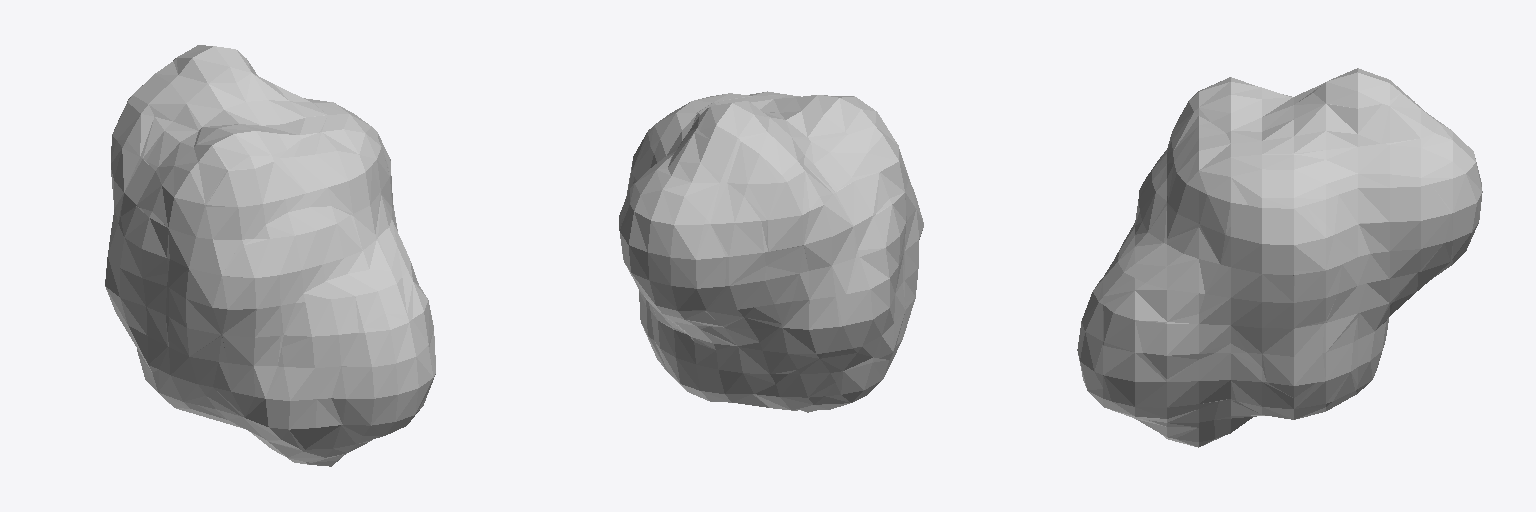
The model's file is 3i07_cms.obj.
The picture shows the model from 3 angles: view 1: azimuth 30°, elevation 25°; view 2: azimuth 150°, elevation 25°; view 3: azimuth 270°, elevation 25°; orthographic projection.
Size of the model in its own units: 48.59 by 65.66 by 66.19.